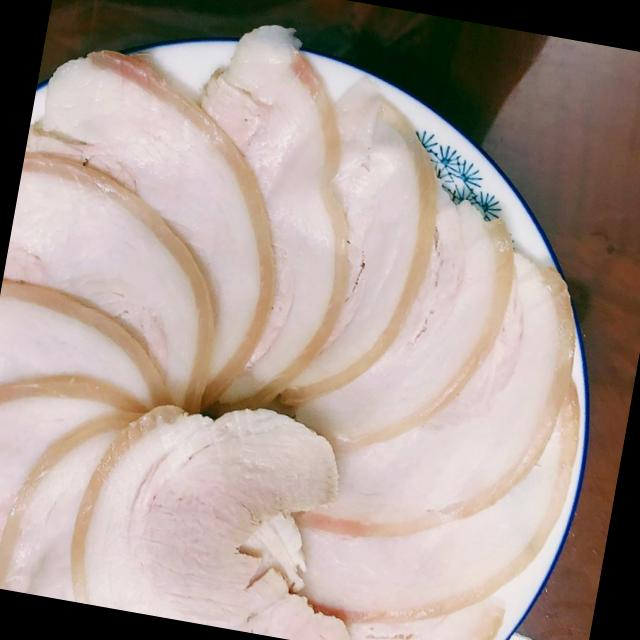thit luoc: (0, 27, 577, 640)
